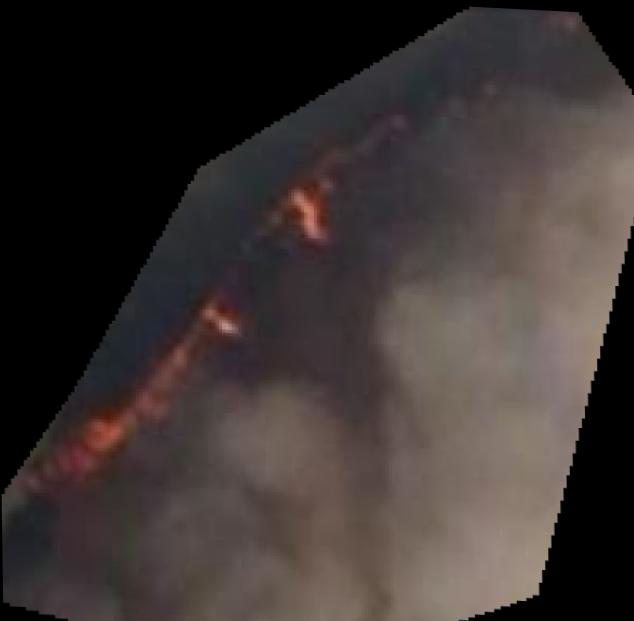fire: (0, 1, 634, 621)
